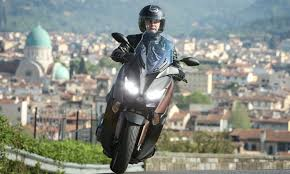helmet: (136, 2, 172, 42)
